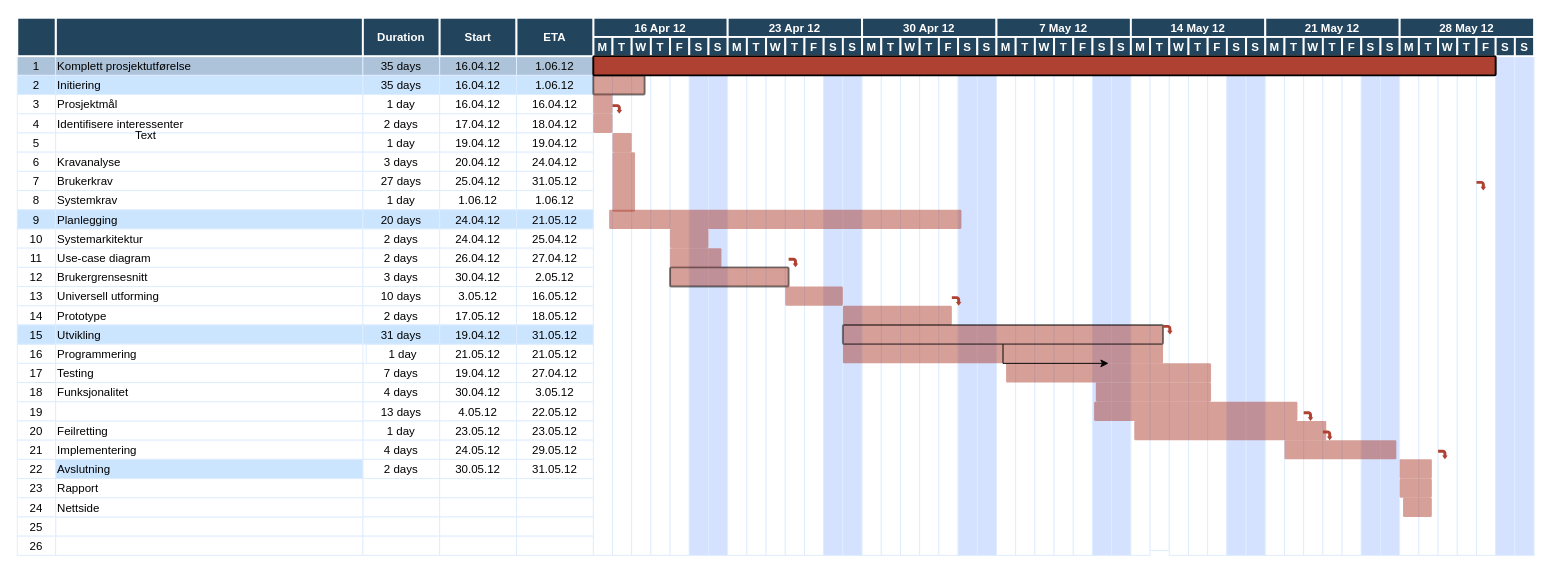
Some shapes in this 1551 by 572 pixel diagram are drawn without their labels. The shapes that lost their labels are listed below. From the top down, each one's box as (x1, y1, x2, y2) in pixels, then its label:
(54, 16, 363, 57): Task Name
(55, 132, 363, 152): WBS/Gannt-skjema
(55, 401, 363, 421): Brukervennlighet
